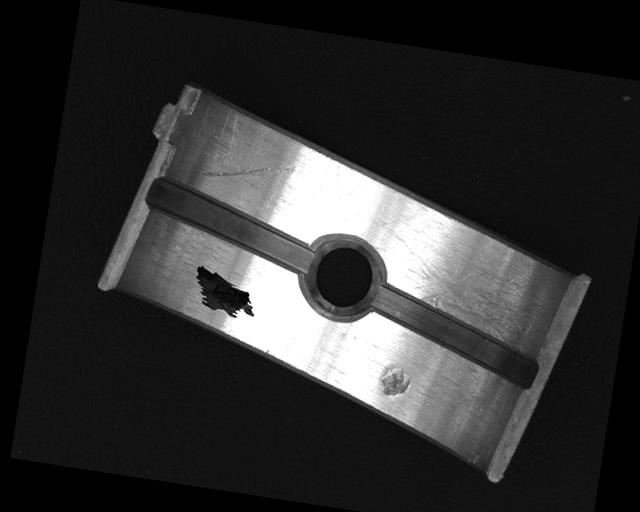blot: (189, 262, 262, 322)
bruise: (376, 360, 413, 399)
gap: (362, 281, 547, 388), (141, 175, 324, 275)
hole: (298, 232, 388, 320)
nick: (200, 151, 297, 192)
scratch: (382, 233, 559, 348)
